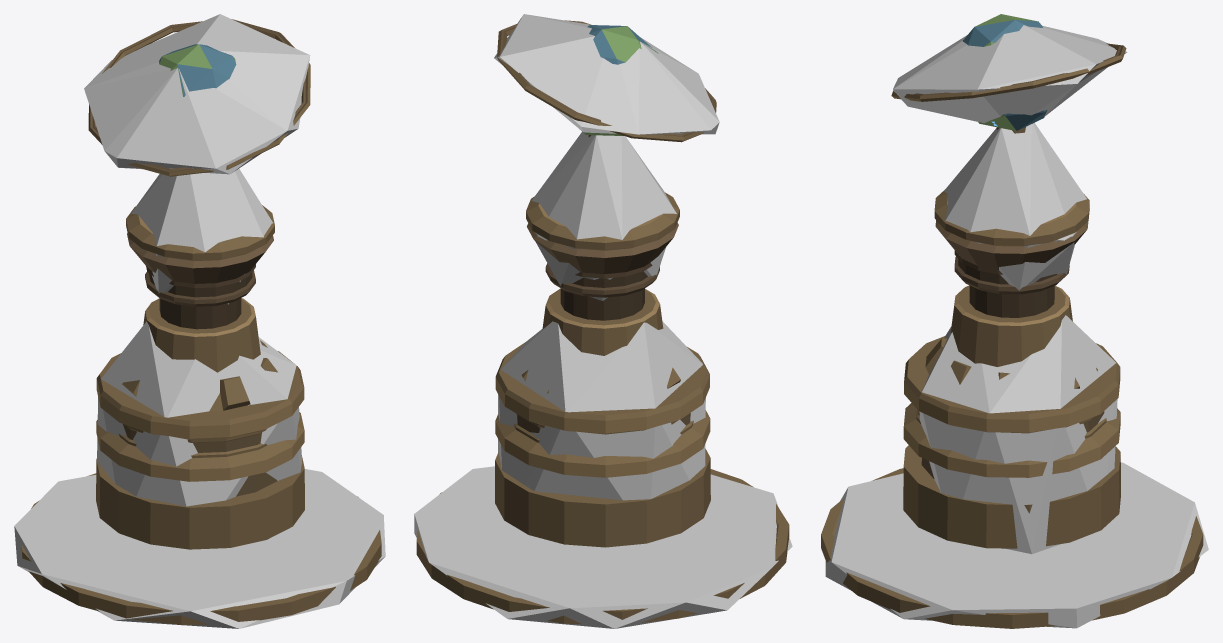
Rendered from SM_Bld_Planetarium_01_Middle.fbx.
3 renders of one model, left to right at view 1: azimuth 30°, elevation 25°; view 2: azimuth 150°, elevation 25°; view 3: azimuth 270°, elevation 25°, orthographic. The views are drawn at different scales.
Visible parts, largest first — view 1: SM_Bld_Planetarium_01_Middle_ConvexHulls, SM_Bld_Planetarium_01_Middle; view 2: SM_Bld_Planetarium_01_Middle_ConvexHulls, SM_Bld_Planetarium_01_Middle; view 3: SM_Bld_Planetarium_01_Middle_ConvexHulls, SM_Bld_Planetarium_01_Middle.
Boxes of the visible parts, x1,y1,x2,y2 form: SM_Bld_Planetarium_01_Middle_ConvexHulls: (14, 14, 385, 628); SM_Bld_Planetarium_01_Middle: (21, 19, 381, 625); SM_Bld_Planetarium_01_Middle_ConvexHulls: (414, 14, 792, 628); SM_Bld_Planetarium_01_Middle: (416, 20, 789, 623); SM_Bld_Planetarium_01_Middle_ConvexHulls: (825, 25, 1208, 628); SM_Bld_Planetarium_01_Middle: (821, 14, 1203, 628).
Bounding box in the file's own units: 273 × 274 × 414.
2 materials, 1 textured.
